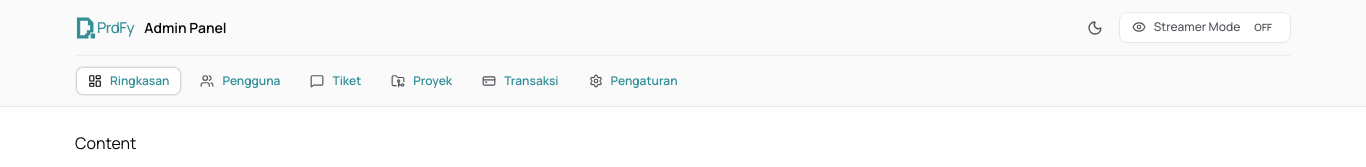
Test: AdminClient Top-Nav Shell › toggles streamer mode when clicking the toggle button
Click the button "Streamer Mode OFF" at coordinates (1205, 27), box [1119, 12, 1291, 43]
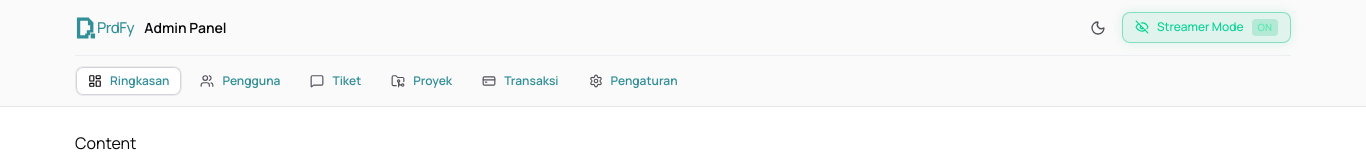
Check: the button "Streamer Mode ON" is shown
Click the button "Streamer Mode ON" at coordinates (1206, 27), box [1122, 12, 1291, 43]
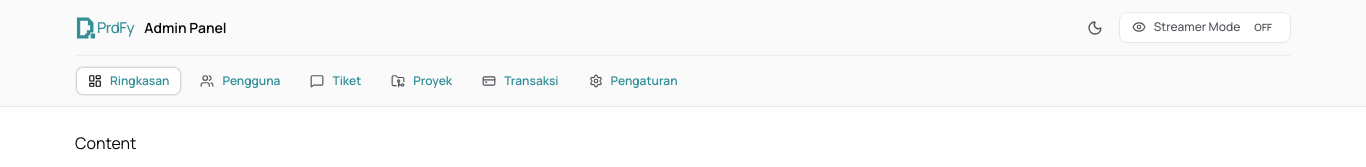
Check: the button "Streamer Mode OFF" is shown, box [1119, 12, 1291, 43]
